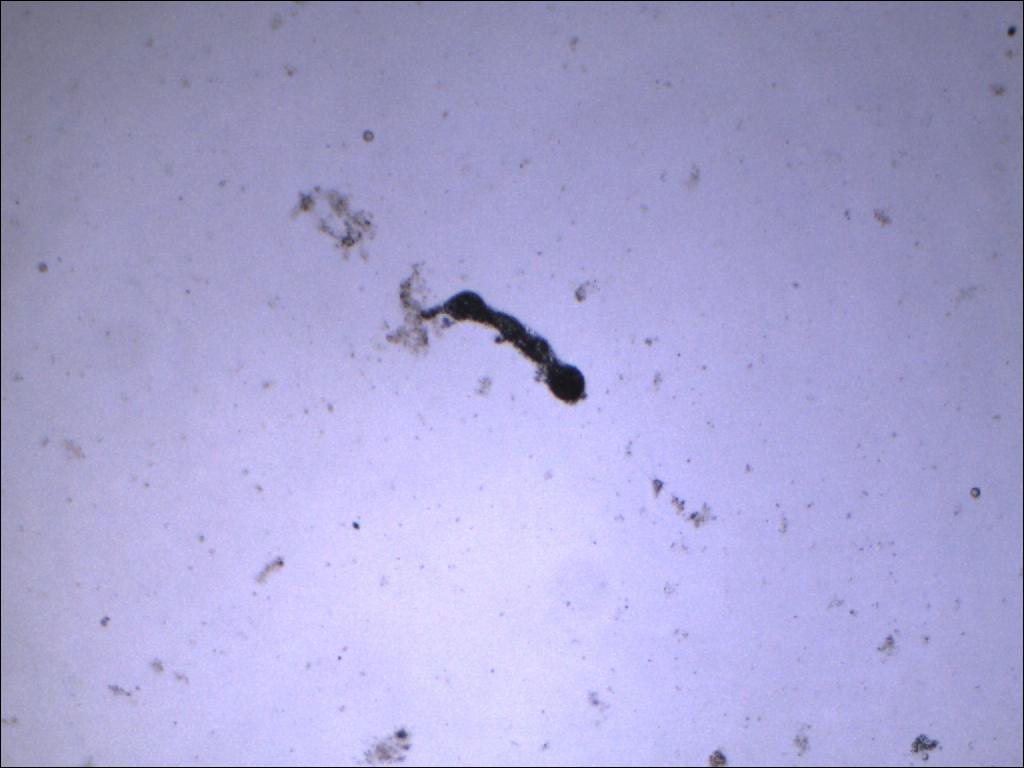amoeba: (417, 287, 592, 410)
